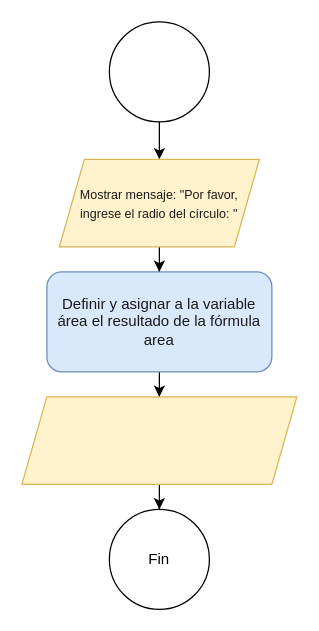
This 319x631 diagram has some shape labels left out. The shapes that lost their labels are listed below. From the top down, each one's box as (x1, y1, x2, y2) in pixels, then its label:
(108, 21, 209, 122): Inicio
(21, 396, 297, 484): Mostrar mensaje: "El área del círculo con radio", radio, "es: ", area
